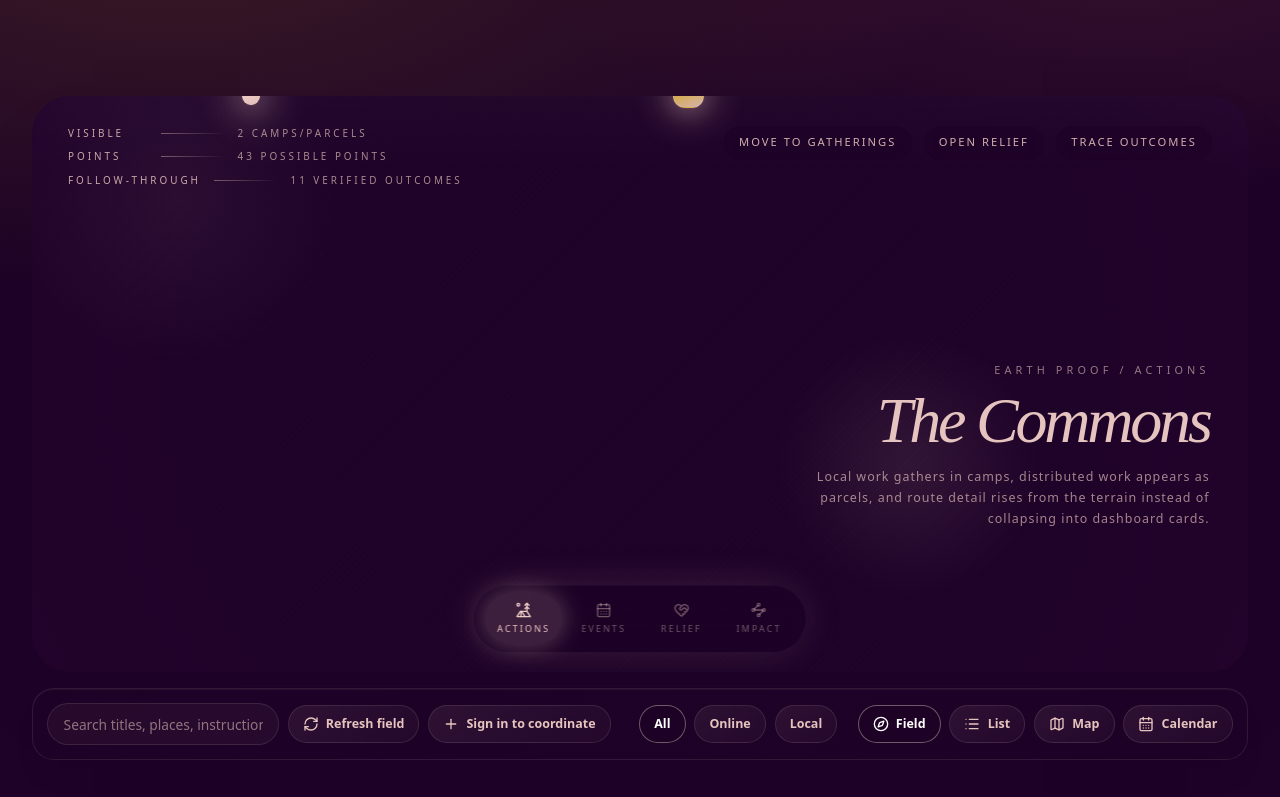
Test: ActionsPage › switches to list backup and keeps the selected action actionable
Click the button "List" at x=987, y=724, box x1=949 y1=705 x2=1025 y2=743
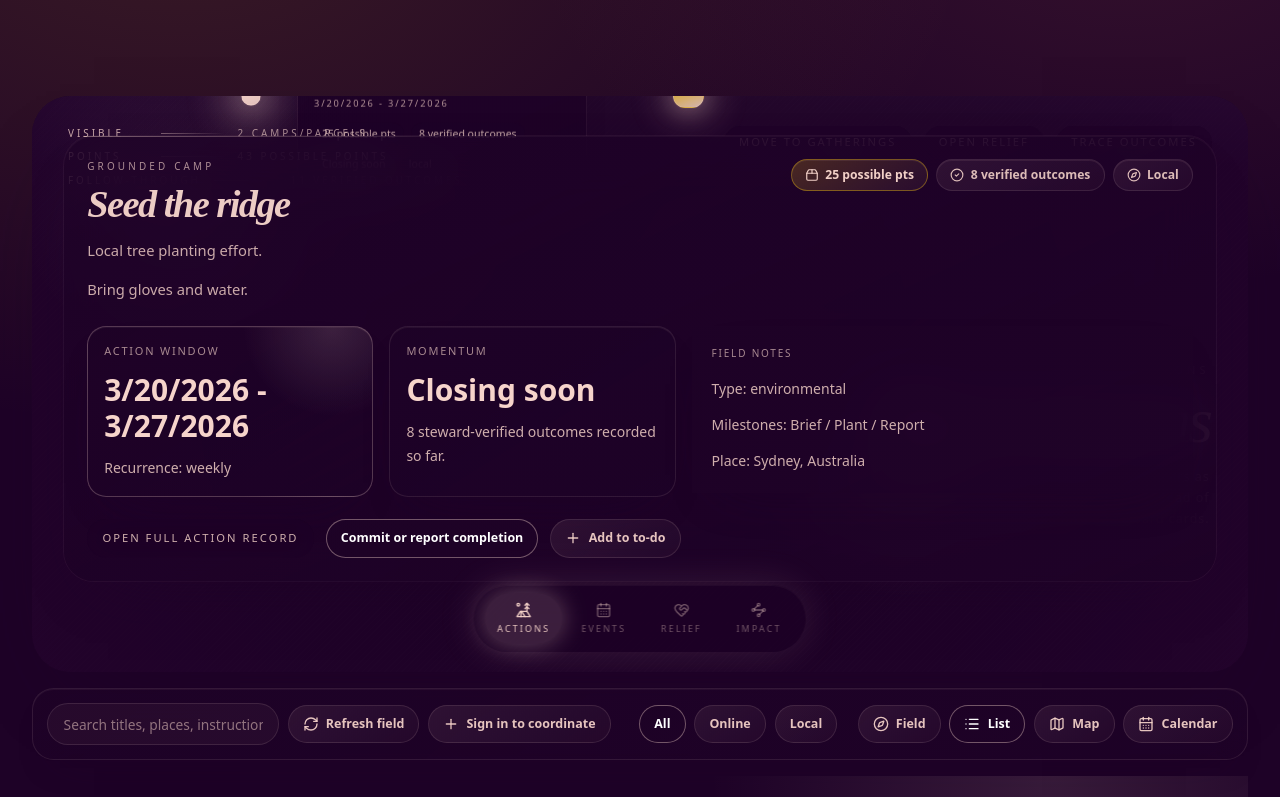
Check: the link "Commit or report completion" is shown, box x1=326 y1=519 x2=538 y2=558
Check: the button "Add to to-do" is shown, box x1=550 y1=519 x2=680 y2=558
